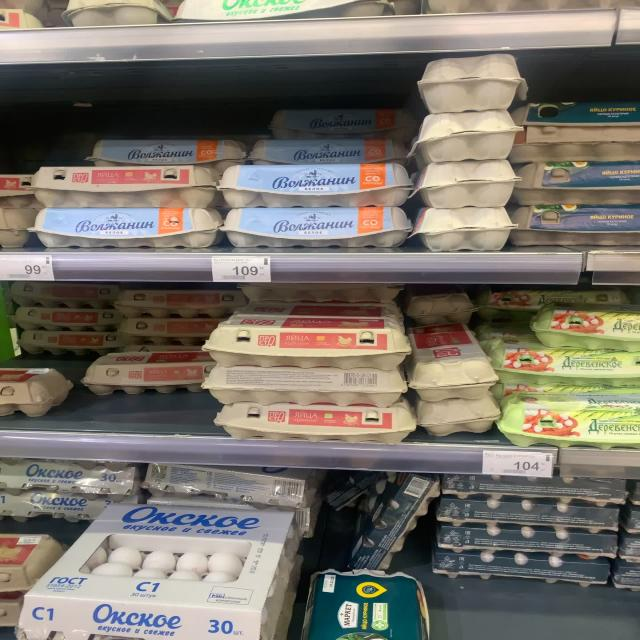egg box: (13, 500, 300, 639), (201, 302, 408, 368), (27, 154, 215, 212), (210, 402, 420, 452), (298, 565, 438, 636), (220, 204, 421, 252), (218, 161, 414, 208), (19, 208, 228, 252), (190, 365, 406, 405), (486, 342, 636, 398), (466, 284, 624, 332), (514, 97, 636, 158), (76, 348, 227, 397), (498, 395, 630, 450), (405, 320, 494, 401), (505, 197, 636, 248), (80, 129, 242, 169), (516, 156, 638, 207), (258, 102, 416, 140), (245, 133, 411, 168), (526, 305, 638, 354), (115, 313, 238, 348), (117, 286, 241, 320), (13, 327, 118, 361), (5, 280, 120, 307), (9, 302, 119, 328)
